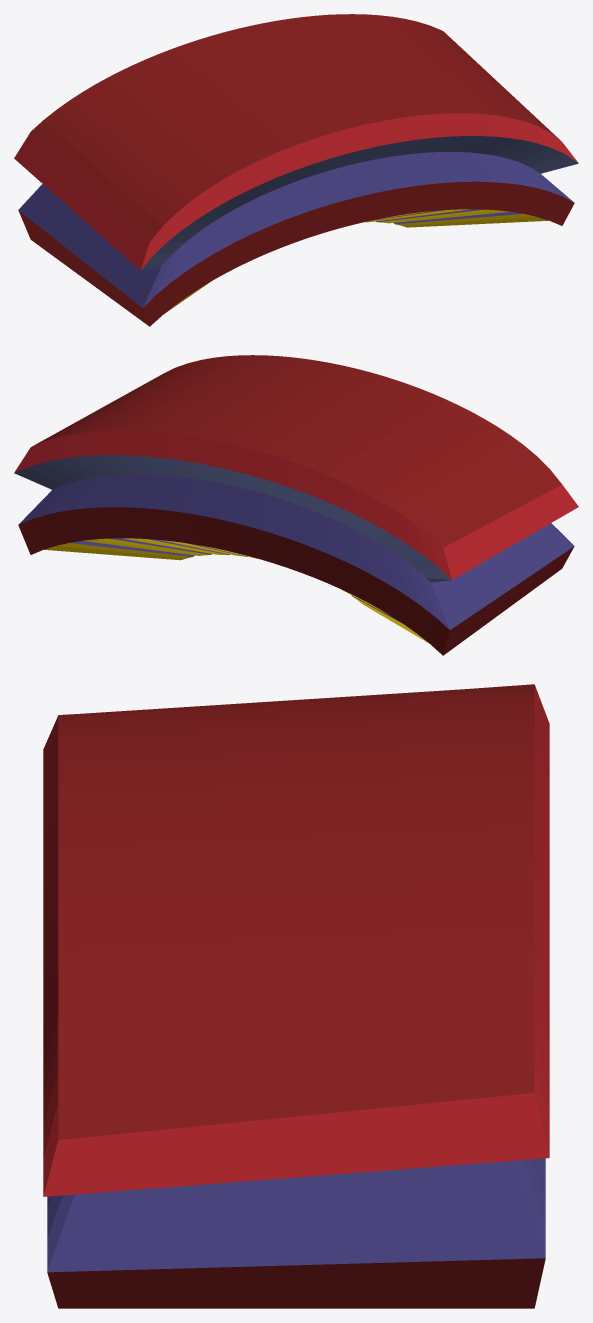
The picture shows the model from 3 angles, top to bottom: view 1: azimuth 30°, elevation 25°; view 2: azimuth 150°, elevation 25°; view 3: azimuth 270°, elevation 25°; orthographic projection. The views are drawn at different scales.
Parts seen in each view (by area): view 1: Paddle; view 2: Paddle; view 3: Paddle.
Part boxes in pixels (x1,y1,x2,y2): Paddle: [14, 14, 578, 326]; Paddle: [14, 355, 578, 655]; Paddle: [43, 684, 549, 1308].
Size of the model in its own units: 4.25 by 1.49 by 2.13.
